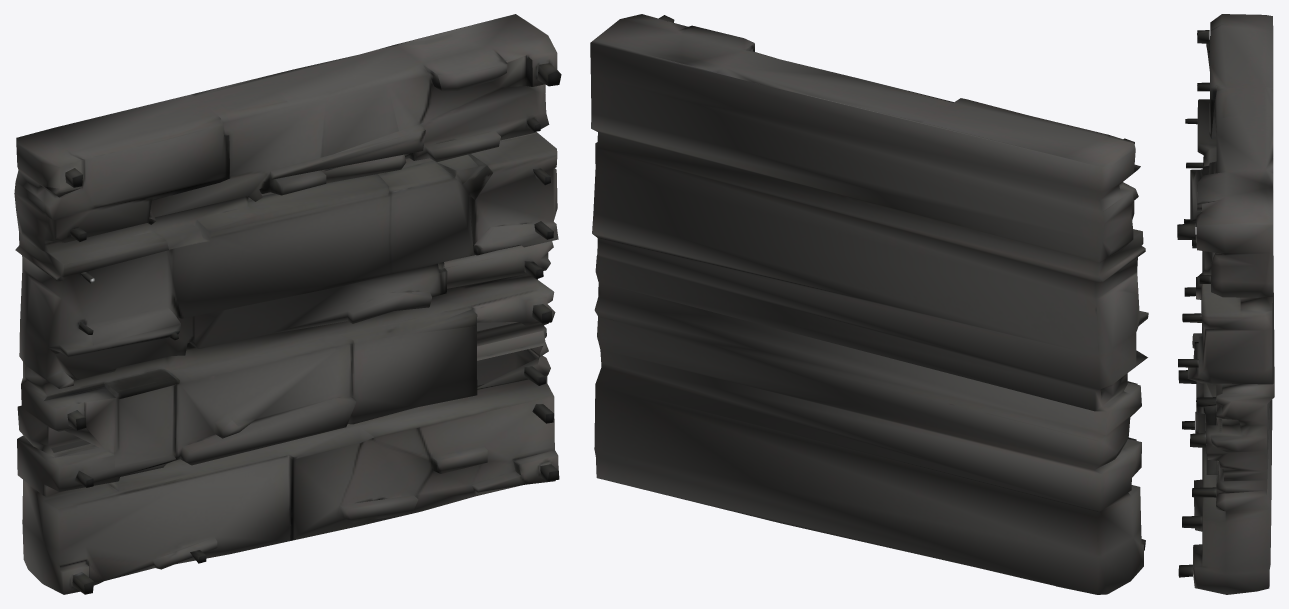
The model's file is plank_band.glb.
The picture shows the model from 3 angles, left to right: view 1: azimuth 30°, elevation 25°; view 2: azimuth 150°, elevation 25°; view 3: azimuth 270°, elevation 25°; orthographic projection. The views are drawn at different scales.
Visible parts, largest first — view 1: plank_band_LOD0; view 2: plank_band_LOD0; view 3: plank_band_LOD0.
Part boxes in pixels (bbox=[...]): plank_band_LOD0: bbox=[14, 14, 561, 594]; plank_band_LOD0: bbox=[590, 14, 1148, 594]; plank_band_LOD0: bbox=[1177, 14, 1274, 594].
Size of what is drawn, in the model's own units: 3 by 2.45 by 0.5827.
1 material, 1 textured.
